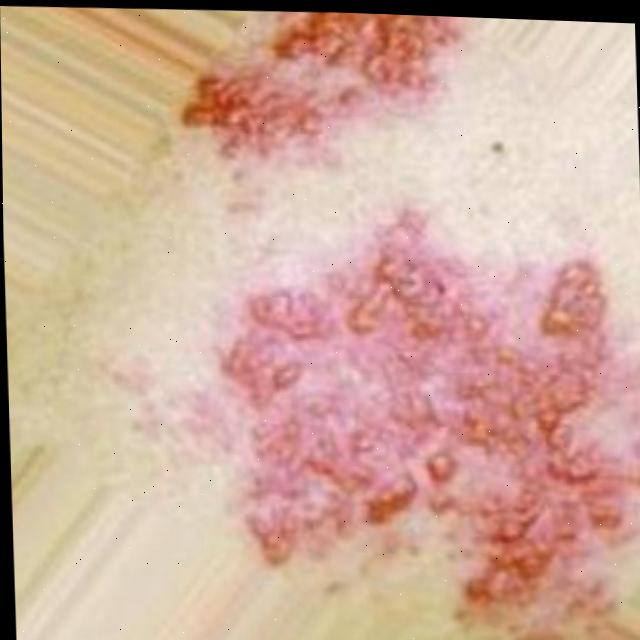Shingles: (174, 6, 640, 640)
